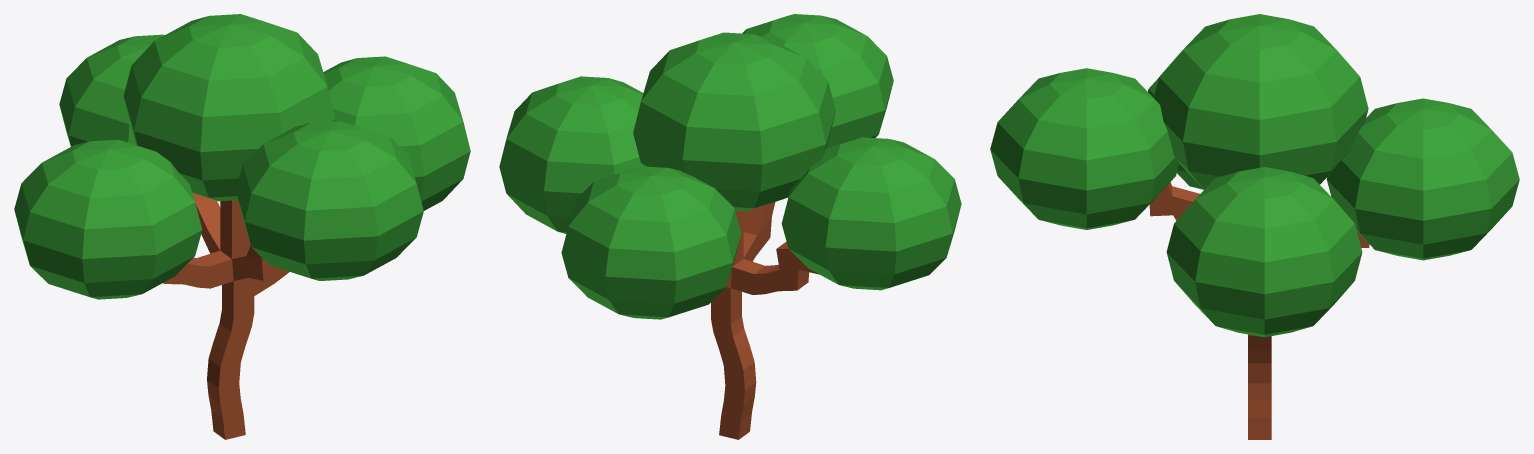
The model's file is tree_001.fbx.
The picture shows the model from 3 angles, left to right: view 1: azimuth 30°, elevation 25°; view 2: azimuth 150°, elevation 25°; view 3: azimuth 270°, elevation 25°; orthographic projection. The views are drawn at different scales.
Parts seen in each view (by area): view 1: Leaf.000, Leaf.002, Leaf.001, Leaf.003, Tree, Leaf.004; view 2: Leaf.000, Leaf.004, Leaf.001, Leaf.003, Leaf.002, Tree; view 3: Leaf.000, Leaf.003, Leaf.002, Leaf.004, Tree.
Part boxes in pixels (left/top/right/bottom): Leaf.000: left=123, top=14, right=335, bottom=201; Leaf.002: left=235, top=121, right=423, bottom=280; Leaf.001: left=14, top=139, right=202, bottom=299; Leaf.003: left=323, top=56, right=470, bottom=210; Tree: left=163, top=193, right=289, bottom=439; Leaf.004: left=59, top=34, right=164, bottom=146; Leaf.000: left=633, top=32, right=835, bottom=211; Leaf.004: left=561, top=166, right=741, bottom=319; Leaf.001: left=781, top=137, right=961, bottom=290; Leaf.003: left=499, top=76, right=643, bottom=233; Leaf.002: left=742, top=14, right=893, bottom=148; Tree: left=711, top=202, right=819, bottom=439; Leaf.000: left=1154, top=14, right=1368, bottom=189; Leaf.003: left=1166, top=167, right=1362, bottom=337; Leaf.002: left=990, top=68, right=1179, bottom=229; Leaf.004: left=1326, top=98, right=1519, bottom=260; Tree: left=1149, top=182, right=1369, bottom=439.
Bounding box in the file's own units: 4401 × 3805 × 4461.
Materials: 2 (2 with a texture image).
